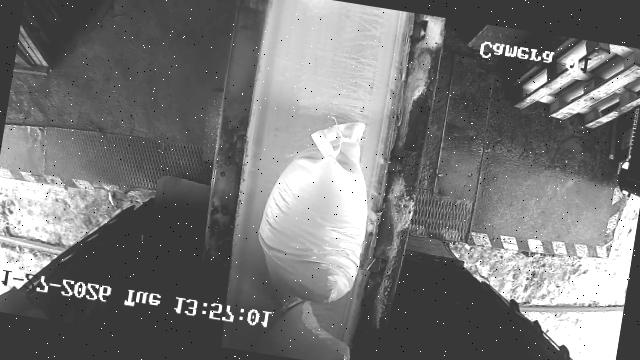bag: (248, 109, 382, 317), (261, 295, 358, 360)
